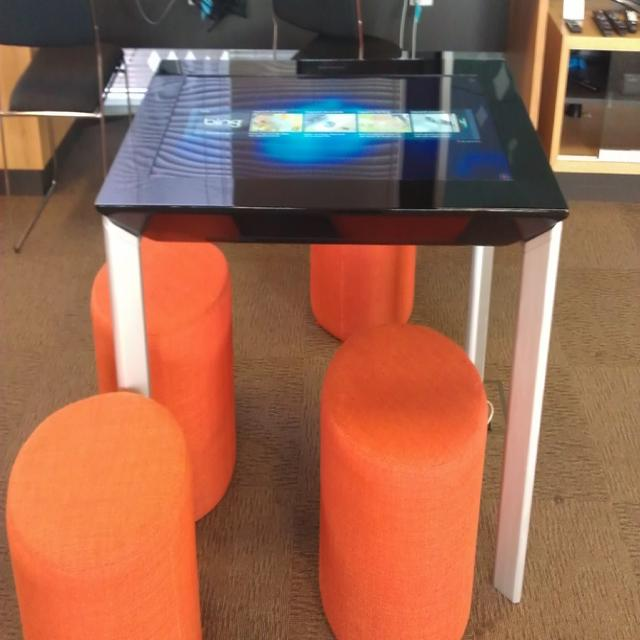desk: (83, 24, 591, 522)
